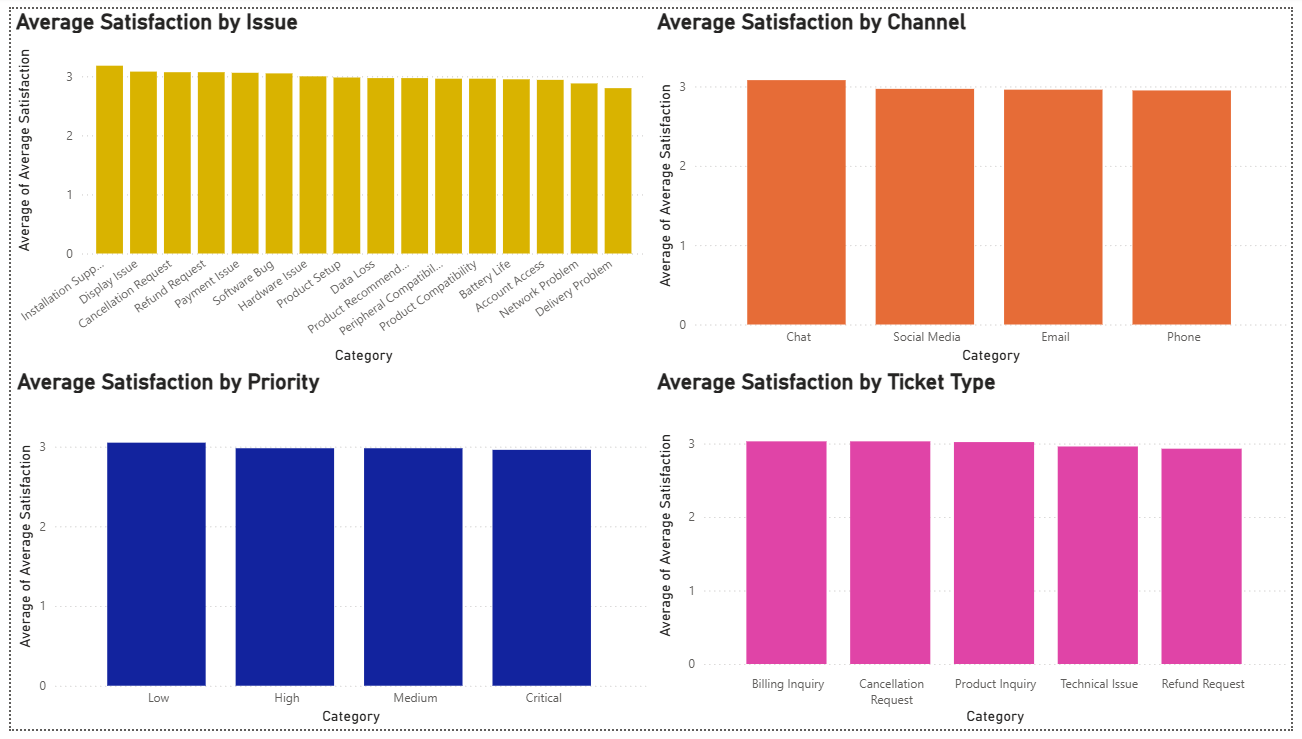

The dashboard page shown, as its layout file describes it:
{"tool":"powerbi","page":{"name":"Customer Satisfaction & Experience","canvas":[1280,720],"ordinal":3},"visuals":[{"type":"clusteredColumnChart","title":"Average Satisfaction by Channel","fields":{"Category":["Satisfaction_Analysis.Category"],"Y":["Avg(Satisfaction_Analysis.Average Satisfaction)"]},"box":[640.8,0,639.5,359.5],"z":0},{"type":"clusteredColumnChart","title":"Average Satisfaction by Issue","fields":{"Category":["Satisfaction_Analysis.Category"],"Y":["Avg(Satisfaction_Analysis.Average Satisfaction)"]},"box":[0,0,639.5,359.5],"z":1000},{"type":"clusteredColumnChart","title":"Average Satisfaction by Priority","fields":{"Category":["Satisfaction_Analysis.Category"],"Y":["Avg(Satisfaction_Analysis.Average Satisfaction)"]},"box":[1.2,359.5,639.5,360.7],"z":2000},{"type":"clusteredColumnChart","title":"Average Satisfaction by Ticket Type","fields":{"Category":["Satisfaction_Analysis.Category"],"Y":["Avg(Satisfaction_Analysis.Average Satisfaction)"]},"box":[641,360,639,360],"z":3000}]}

Visuals, with their boxes in screenshot pixels (x1, y1, x2, y2), scaled from the page's 1280x720 canvas onto the 1302x739 screenshot:
"Average Satisfaction by Channel" clusteredColumnChart: Rect(652, 0, 1301, 369)
"Average Satisfaction by Issue" clusteredColumnChart: Rect(0, 0, 650, 369)
"Average Satisfaction by Priority" clusteredColumnChart: Rect(1, 369, 652, 738)
"Average Satisfaction by Ticket Type" clusteredColumnChart: Rect(652, 369, 1301, 738)
